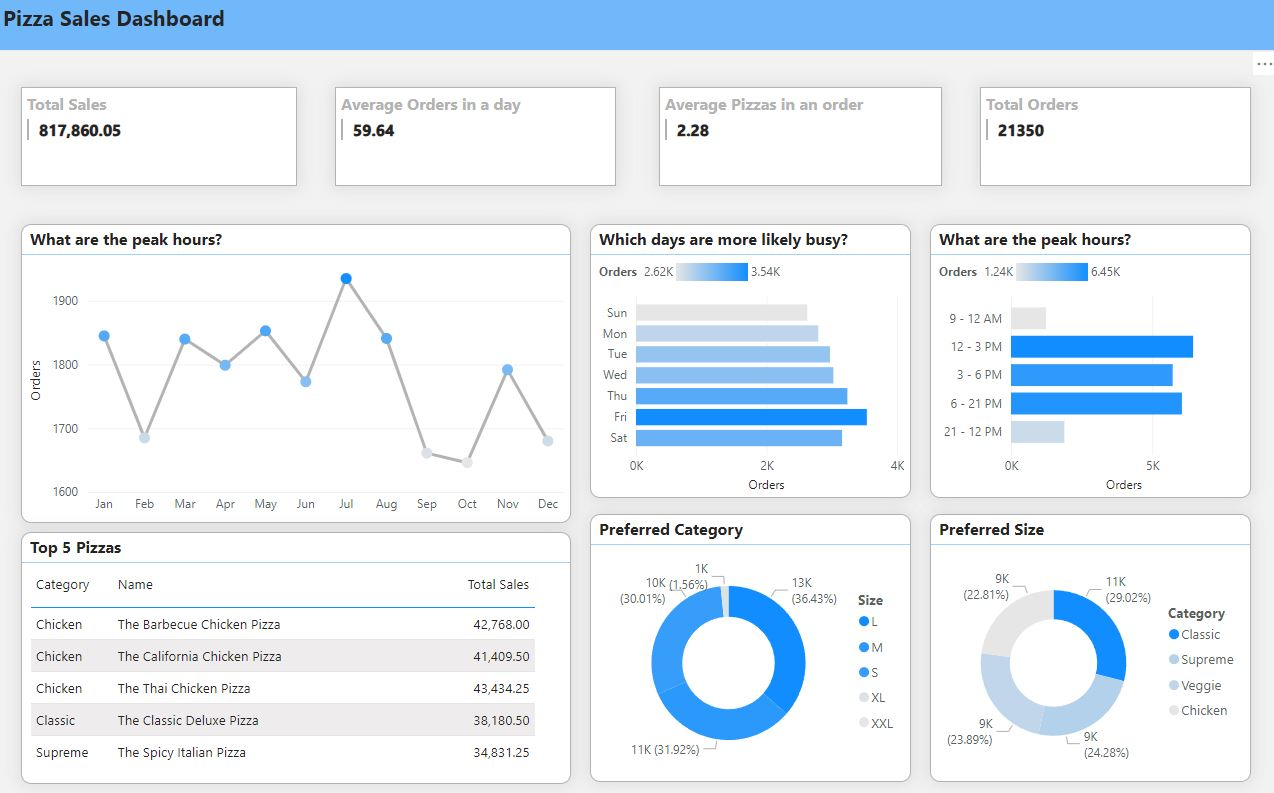

What the dashboard file says about the page in this screenshot:
{"tool":"powerbi","page":{"name":"Page 1","canvas":[1280,800],"ordinal":0},"visuals":[{"type":"textbox","box":[0,0,1279.8,53.2],"z":0},{"type":"barChart","title":"What are the peak hours?","fields":{"Category":["Orders.Time Slot"],"Y":["All Measures.Orders"]},"box":[932,225.6,321.2,274.9],"z":1000},{"type":"barChart","title":"Which days are more likely busy?","fields":{"Y":["All Measures.Orders"],"Category":["Date Table.Day"]},"box":[592.1,225.6,321.2,274.9],"z":2000},{"type":"lineChart","title":"What are the peak hours?","fields":{"Category":["Date Table.Month"],"Y":["All Measures.Orders"]},"box":[22.7,225.6,550.7,299.5],"z":3000},{"type":"donutChart","title":"Preferred Size","fields":{"Y":["All Measures.Orders"],"Category":["Pizza Types.Category"]},"box":[932,516.3,321.2,268],"z":4000},{"type":"donutChart","title":"Preferred Category","fields":{"Y":["All Measures.Orders"],"Category":["Pizzas.Size"]},"box":[592.1,516.3,321.2,268],"z":5000},{"type":"tableEx","title":"Top 5 Pizzas","fields":{"Values":["Pizza Types.Category","Pizza Types.Name","All Measures.Total Sales"]},"box":[22.7,534,550.7,252.2],"z":6000},{"type":"multiRowCard","title":"Total Sales","fields":{"Values":["All Measures.Total Sales"]},"box":[22.7,88.7,275.9,99.5],"z":6001},{"type":"multiRowCard","title":"Average Orders in a day","fields":{"Values":["All Measures.Avg Orders in a Day"]},"box":[336.9,88.7,280.8,99.5],"z":6002},{"type":"multiRowCard","title":"Average Pizzas in an order","fields":{"Values":["All Measures.Avg Pizzas in an Order"]},"box":[661.1,88.7,282.8,99.5],"z":6003},{"type":"multiRowCard","title":"Total Orders","fields":{"Values":["All Measures.Orders"]},"box":[982.3,88.7,270.9,99.5],"z":6004}]}

Visuals, with their boxes in screenshot pixels (x1, y1, x2, y2), scaled from the page's 1280x800 canvas onto the 1274x793 screenshot:
textbox: bbox=(0, 0, 1273, 53)
"What are the peak hours?" barChart: bbox=(928, 224, 1247, 496)
"Which days are more likely busy?" barChart: bbox=(589, 224, 909, 496)
"What are the peak hours?" lineChart: bbox=(23, 224, 571, 521)
"Preferred Size" donutChart: bbox=(928, 512, 1247, 777)
"Preferred Category" donutChart: bbox=(589, 512, 909, 777)
"Top 5 Pizzas" tableEx: bbox=(23, 529, 571, 779)
"Total Sales" multiRowCard: bbox=(23, 88, 297, 187)
"Average Orders in a day" multiRowCard: bbox=(335, 88, 615, 187)
"Average Pizzas in an order" multiRowCard: bbox=(658, 88, 939, 187)
"Total Orders" multiRowCard: bbox=(978, 88, 1247, 187)
